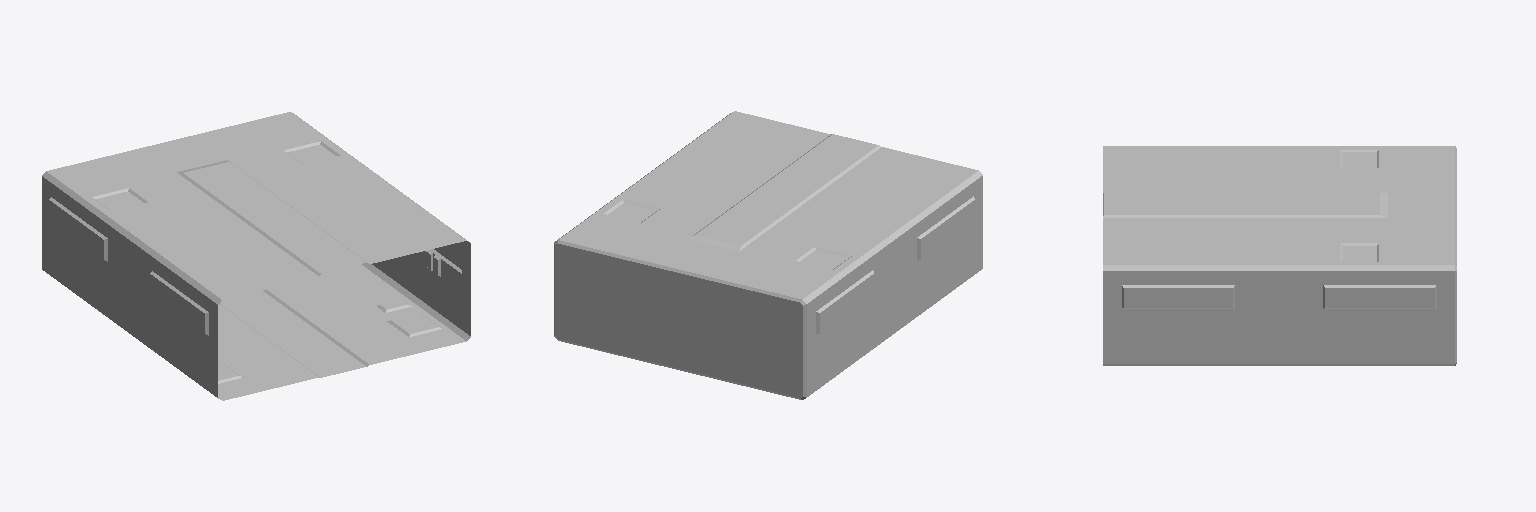
The model's file is oolite_dodo_dock.dat.obj.
3 views of the same model, side by side, from view 1: azimuth 30°, elevation 25°; view 2: azimuth 150°, elevation 25°; view 3: azimuth 270°, elevation 25° (orthographic).
Visible parts, largest first — view 1: justdock.obj; view 2: justdock.obj; view 3: justdock.obj.
Boxes of the visible parts, x1,y1,x2,y2 form: justdock.obj: [42, 112, 470, 400]; justdock.obj: [554, 111, 982, 399]; justdock.obj: [1103, 146, 1456, 365].
Size of the model in its own units: 210 by 81.03 by 250.